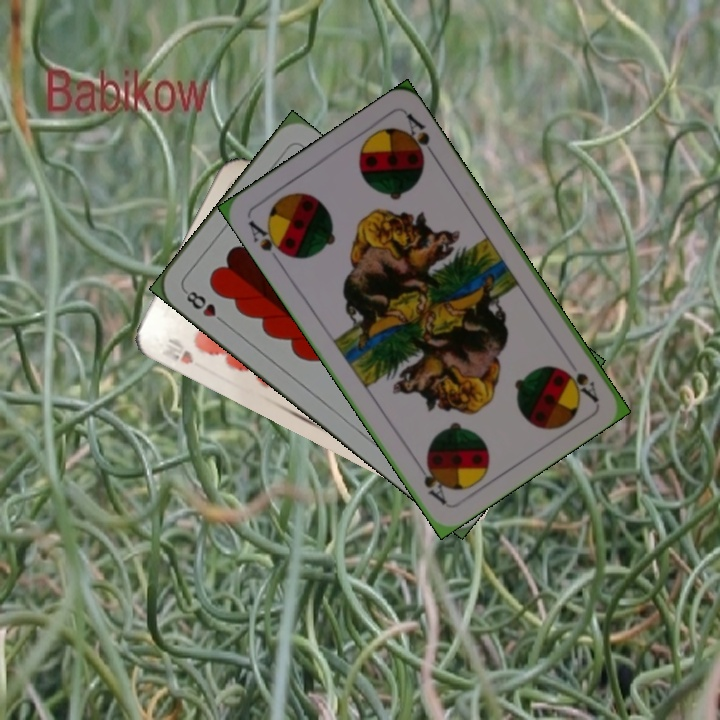H10: (164, 334, 196, 367)
H8: (180, 285, 230, 328)
SA: (244, 216, 292, 260), (559, 364, 601, 405)
